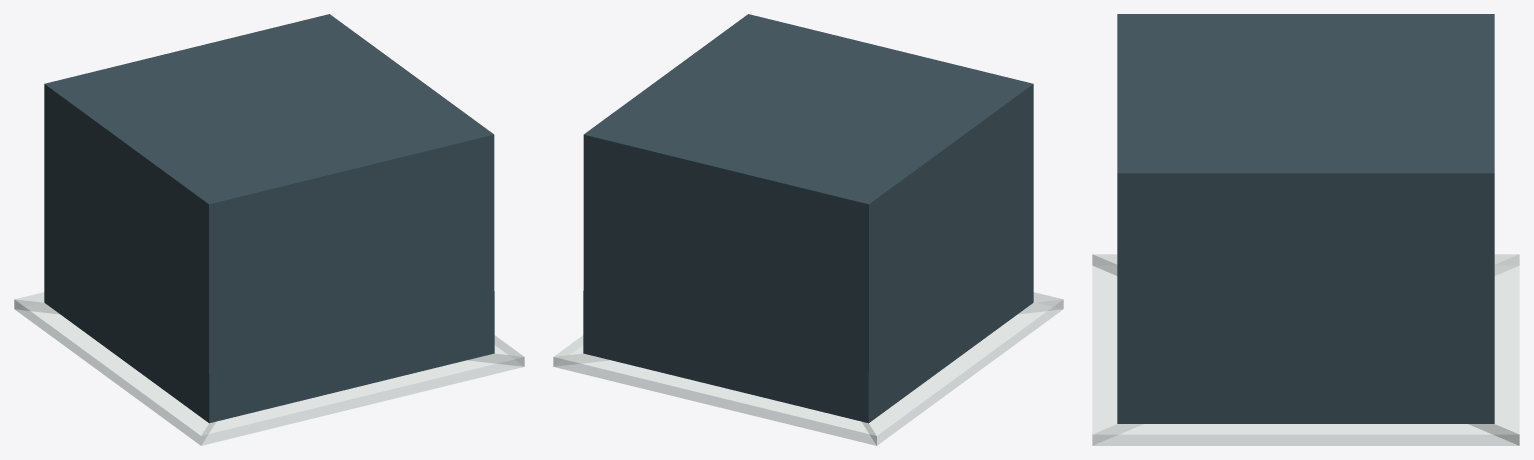
Rendered from Package.obj.
The picture shows the model from 3 angles, left to right: view 1: azimuth 30°, elevation 25°; view 2: azimuth 150°, elevation 25°; view 3: azimuth 270°, elevation 25°; orthographic projection. The views are drawn at different scales.
Visible parts, largest first — view 1: mesh146952204; view 2: mesh146952204; view 3: mesh146952204.
Boxes of the visible parts, box(x1,y1,x2,y2) form: mesh146952204: box(14, 14, 524, 445); mesh146952204: box(553, 14, 1063, 445); mesh146952204: box(1092, 14, 1519, 445).
Bounding box in the file's own units: 0.34 × 0.2302 × 0.34.
